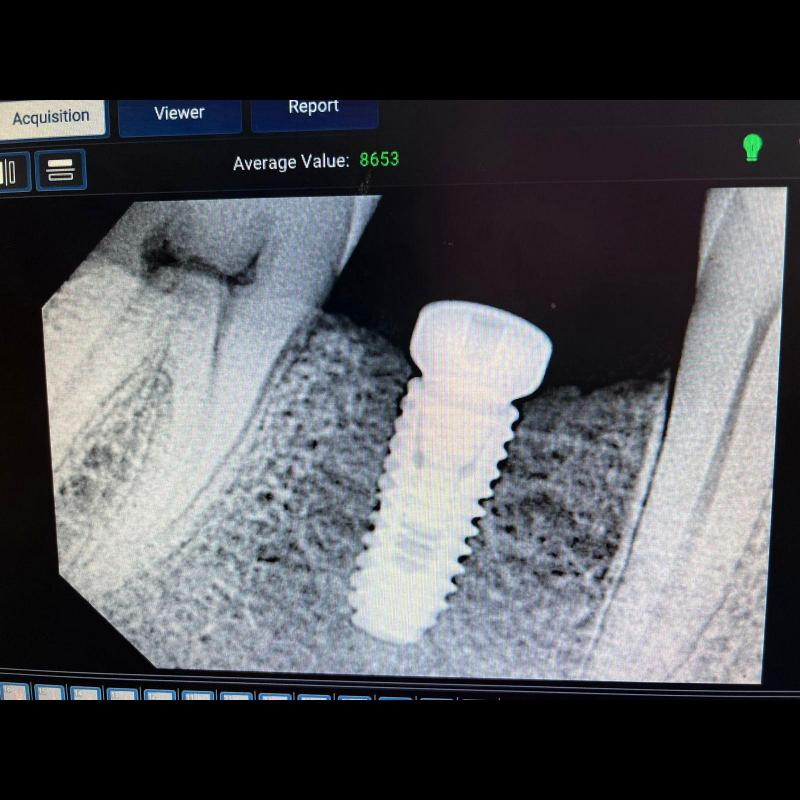osstem: (330, 296, 550, 632)
